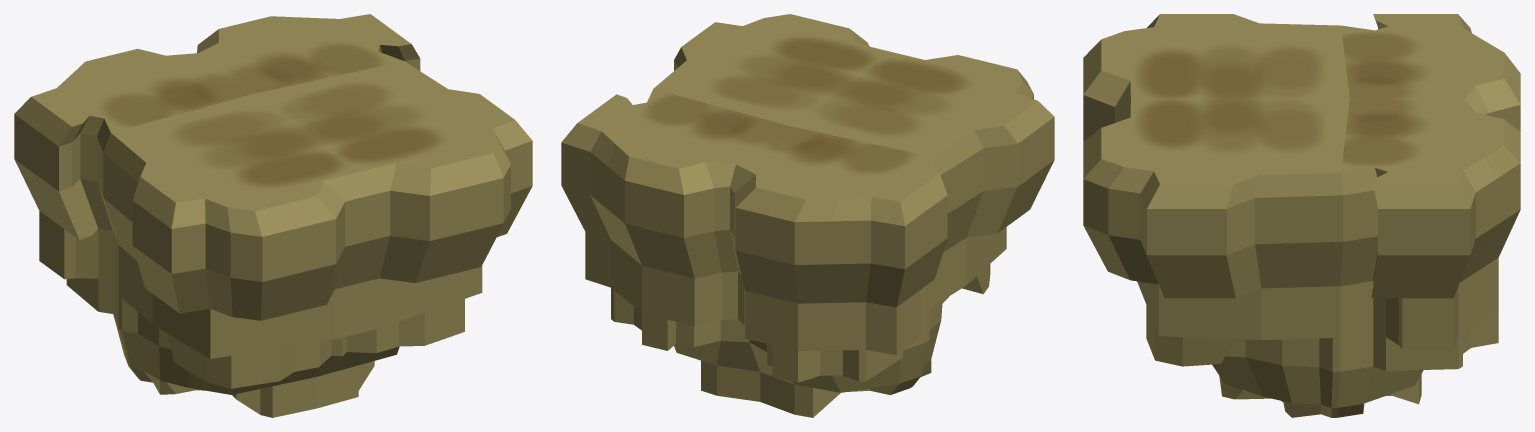
Rendered from roca desierto.fbx.
3 renders of one model, left to right at view 1: azimuth 30°, elevation 25°; view 2: azimuth 150°, elevation 25°; view 3: azimuth 270°, elevation 25°, orthographic. The views are drawn at different scales.
Parts seen in each view (by area): view 1: Plane; view 2: Plane; view 3: Plane.
Boxes of the visible parts, left/top/right/bottom form: Plane: left=14, top=14, right=532, bottom=417; Plane: left=561, top=14, right=1054, bottom=417; Plane: left=1083, top=14, right=1520, bottom=417.
Bounding box in the file's own units: 213 × 151 × 217.
Materials: 1 (1 with a texture image).
